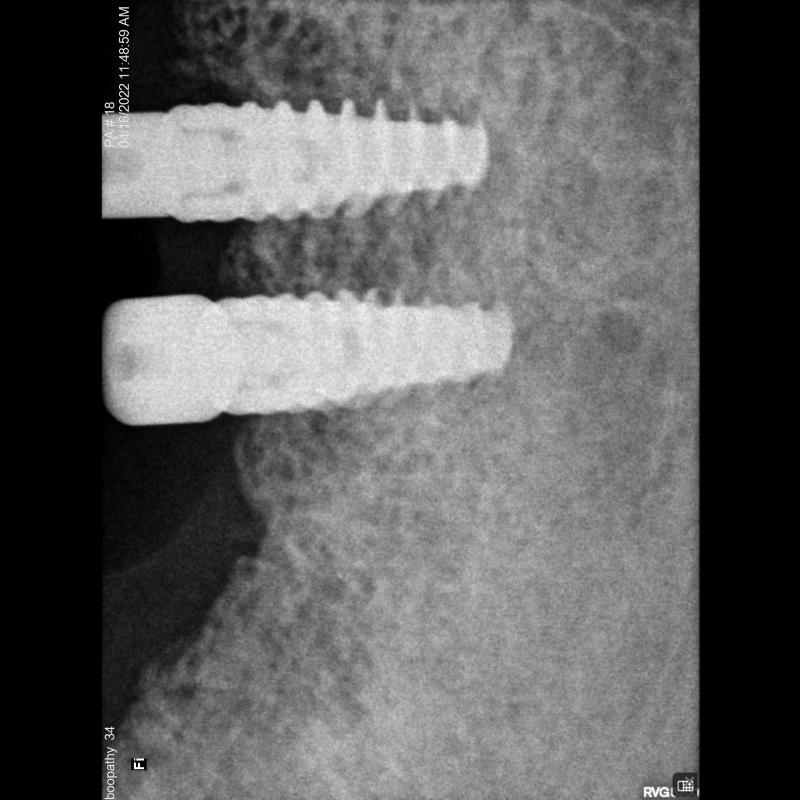ADIN: (112, 270, 524, 439), (107, 80, 501, 233)
